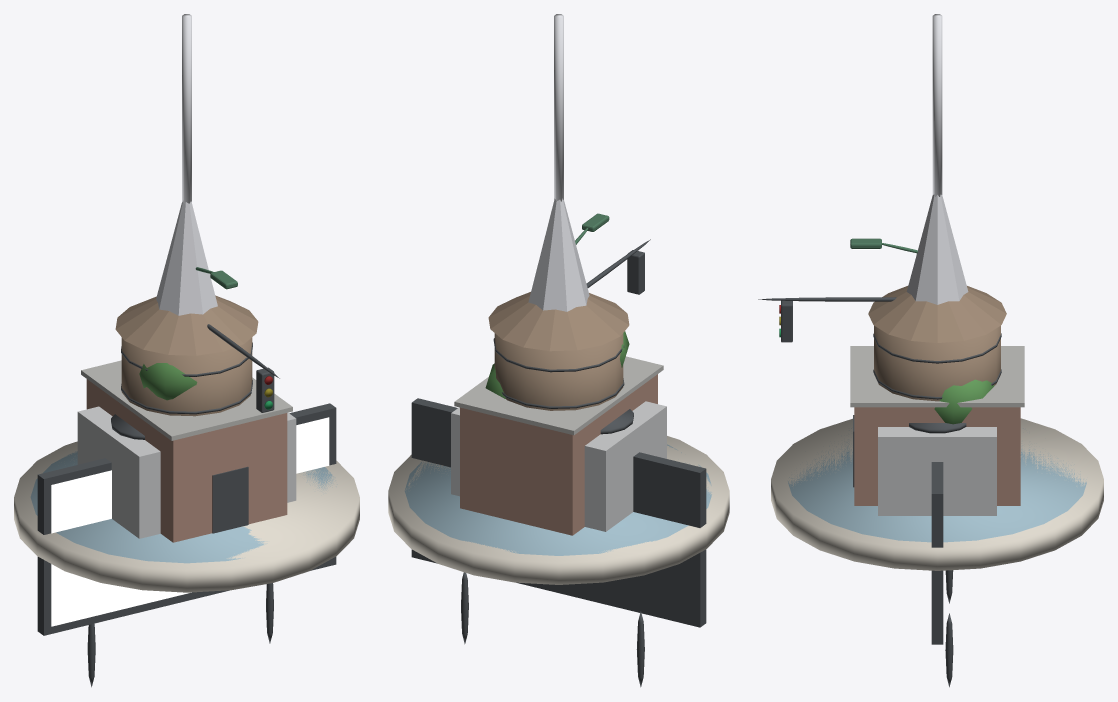
File: props.glb
3 views of the same model, side by side, from view 1: azimuth 30°, elevation 25°; view 2: azimuth 150°, elevation 25°; view 3: azimuth 270°, elevation 25° (orthographic). The views are drawn at different scales.
Parts seen in each view (by area): view 1: Fountain, Bulkhead, WaterTower, BillboardFace, CoolingTower, Billboard, Spire, Tree, TrafficLight; view 2: Fountain, Bulkhead, Billboard, WaterTower, CoolingTower, Spire, TrafficLight; view 3: Fountain, WaterTower, Bulkhead, CoolingTower, Spire, Billboard, Tree, TrafficLight.
Boxes of the visible parts, <box> form: Fountain: <box>14,441,359,592</box>; Bulkhead: <box>81,360,292,542</box>; WaterTower: <box>115,295,258,416</box>; BillboardFace: <box>51,417,329,626</box>; CoolingTower: <box>77,406,296,538</box>; Billboard: <box>37,403,336,687</box>; Spire: <box>156,14,217,315</box>; Tree: <box>139,363,197,400</box>; TrafficLight: <box>207,324,279,412</box>; Fountain: <box>388,436,729,584</box>; Bulkhead: <box>454,356,663,535</box>; Billboard: <box>411,398,706,687</box>; WaterTower: <box>488,292,629,410</box>; CoolingTower: <box>451,401,666,531</box>; Spire: <box>528,14,589,311</box>; TrafficLight: <box>586,239,650,294</box>; Fountain: <box>771,418,1103,570</box>; WaterTower: <box>868,286,1006,401</box>; Bulkhead: <box>850,346,1024,505</box>; CoolingTower: <box>878,423,996,515</box>; Spire: <box>906,14,968,304</box>; Billboard: <box>931,462,953,687</box>; Tree: <box>934,379,994,424</box>; TrafficLight: <box>758,297,896,342</box>.
Bounding box in the file's own units: 8.4 × 17.55 × 8.73.
